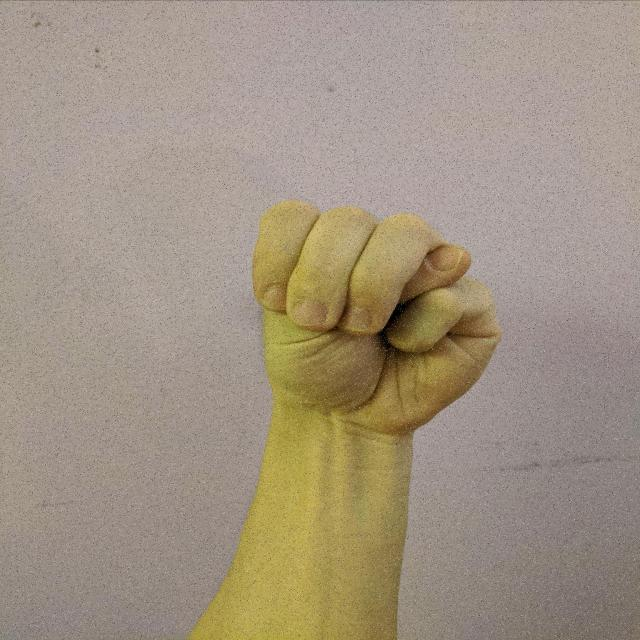M: (242, 195, 510, 438)
